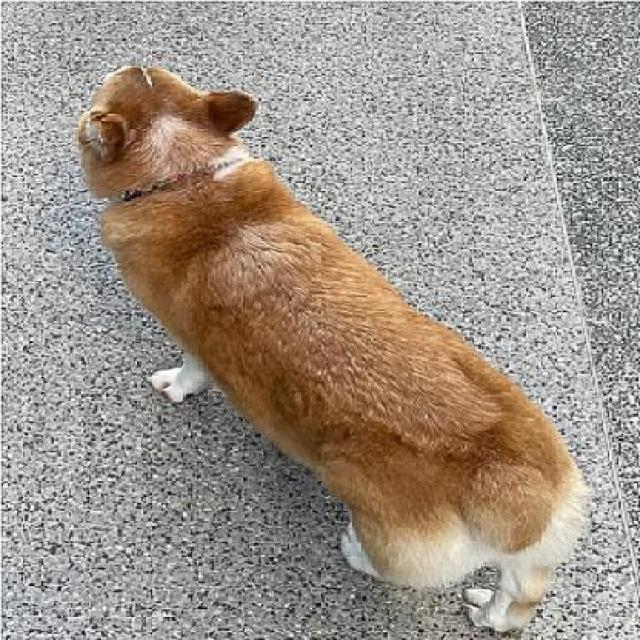Dog: (68, 60, 588, 634)
